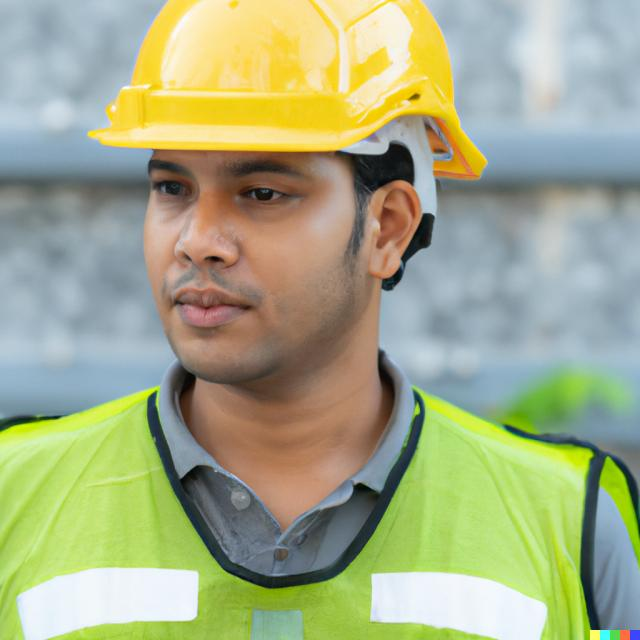Reflective-Jacket: (8, 397, 640, 636)
Safety-Helmet: (96, 5, 484, 160)
